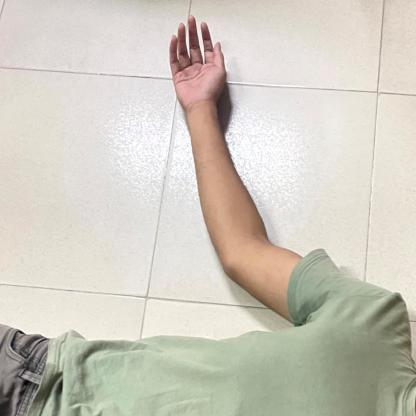hand: (166, 13, 298, 317)
